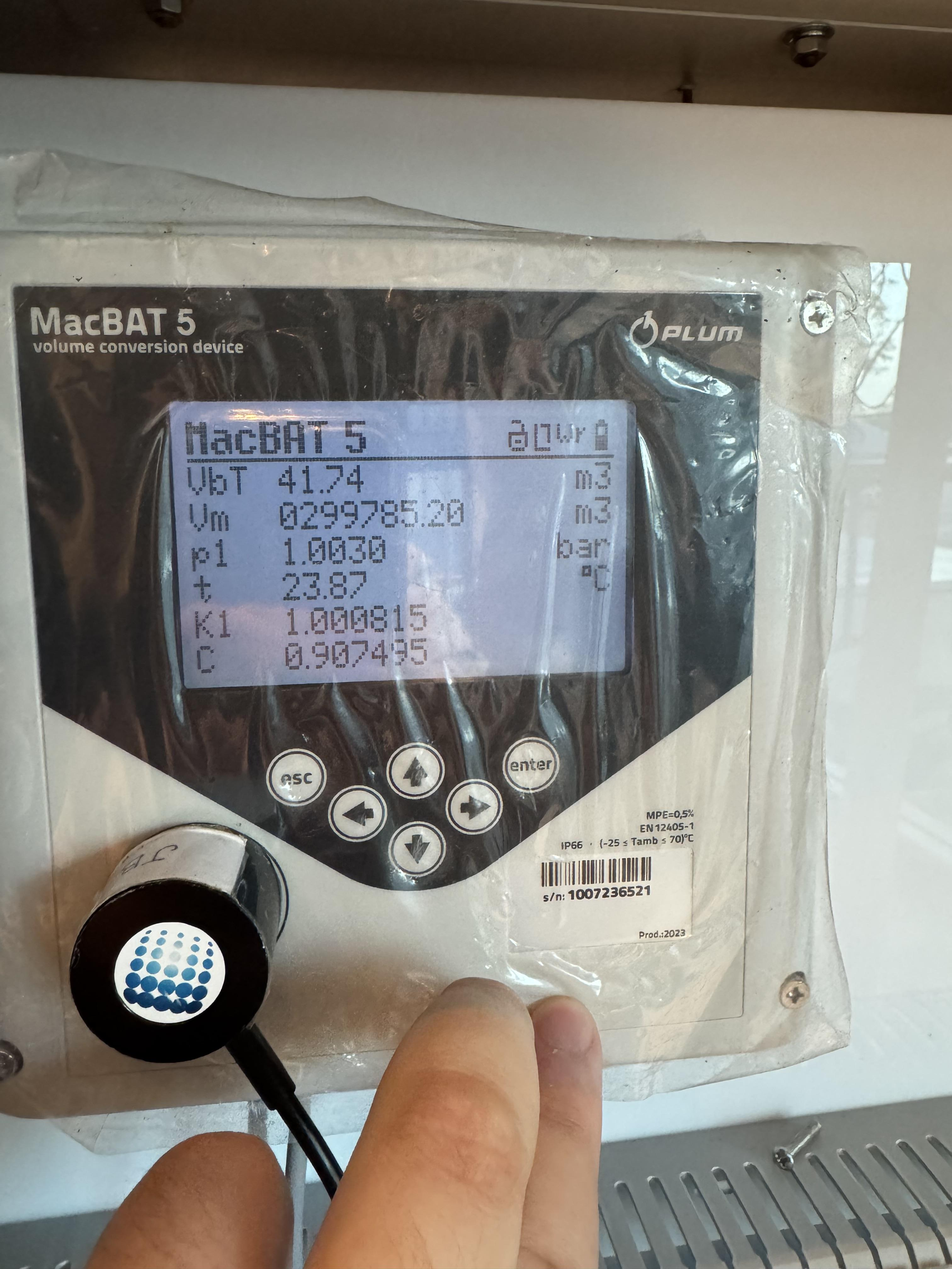digital_screen: (169, 401, 634, 689)
